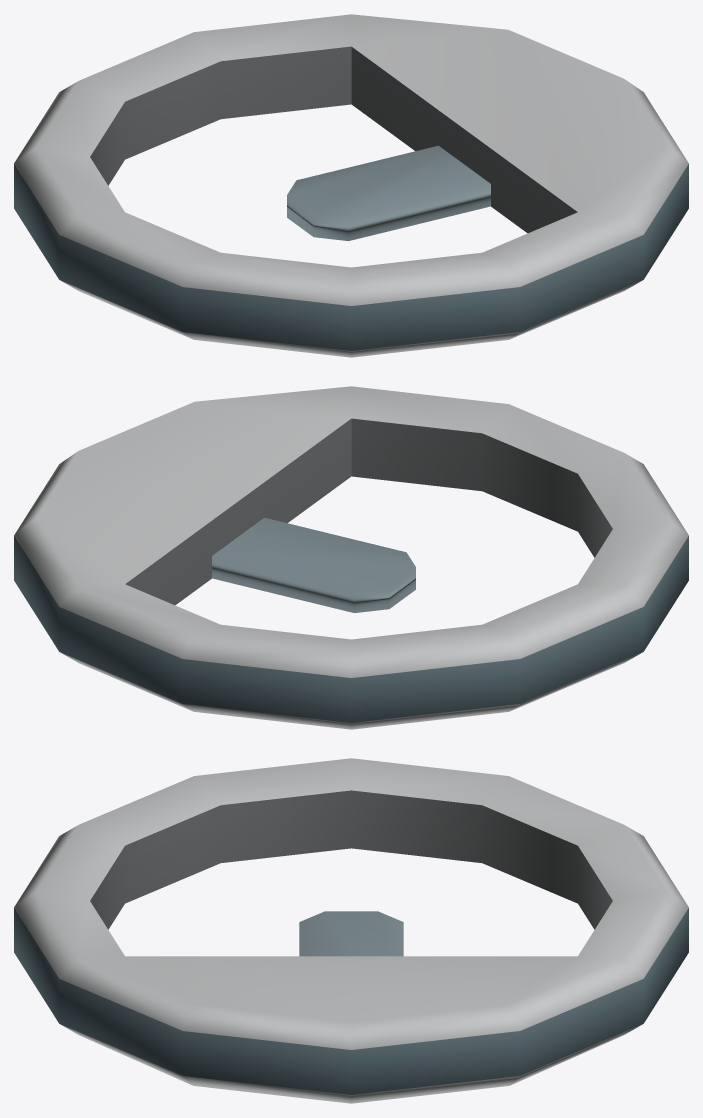
Rendered from Drone_013_wing_002.fbx.
The picture shows the model from 3 angles, top to bottom: view 1: azimuth 30°, elevation 25°; view 2: azimuth 150°, elevation 25°; view 3: azimuth 270°, elevation 25°; orthographic projection.
Parts seen in each view (by area): view 1: Drone_013_wing_002; view 2: Drone_013_wing_002; view 3: Drone_013_wing_002.
Part boxes in pixels (x1=…): Drone_013_wing_002: x1=14, y1=14, x2=688, y2=357; Drone_013_wing_002: x1=14, y1=386, x2=688, y2=729; Drone_013_wing_002: x1=14, y1=758, x2=688, y2=1103.
Bounding box in the file's own units: 43.5 × 43.5 × 5.81.
